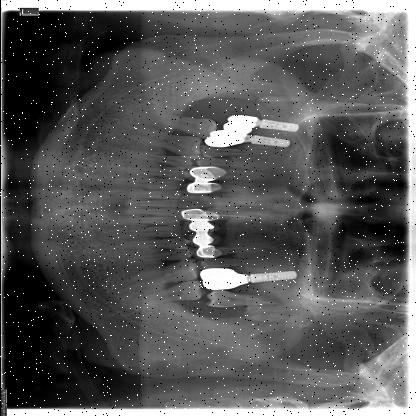ITI: (244, 133, 292, 149), (248, 272, 304, 284), (257, 118, 303, 132)
